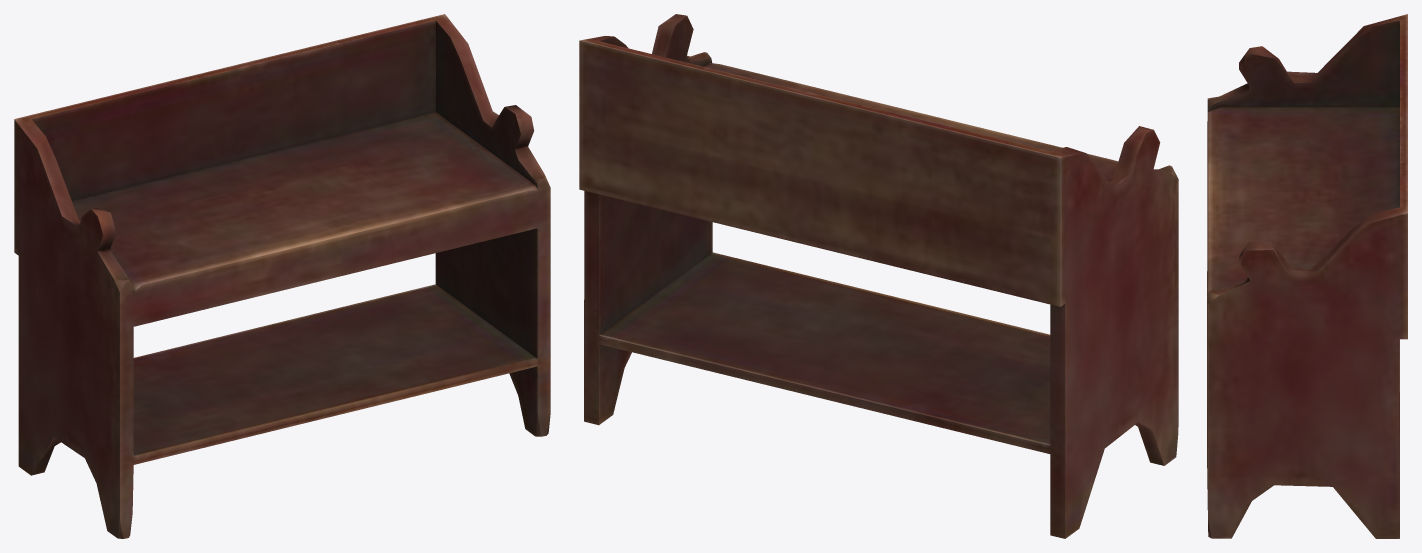
File: painted_wooden_bench_lo.glb
3 views of the same model, side by side, from view 1: azimuth 30°, elevation 25°; view 2: azimuth 150°, elevation 25°; view 3: azimuth 270°, elevation 25° (orthographic). The views are drawn at different scales.
Parts seen in each view (by area): view 1: painted_wooden_bench; view 2: painted_wooden_bench; view 3: painted_wooden_bench.
Part boxes in pixels (<box>): painted_wooden_bench: <box>14,14,550,538</box>; painted_wooden_bench: <box>579,14,1178,538</box>; painted_wooden_bench: <box>1207,14,1407,538</box>.
Bounding box in the file's own units: 1.16 × 0.8893 × 0.4965.
Materials: 1 (1 with a texture image).
